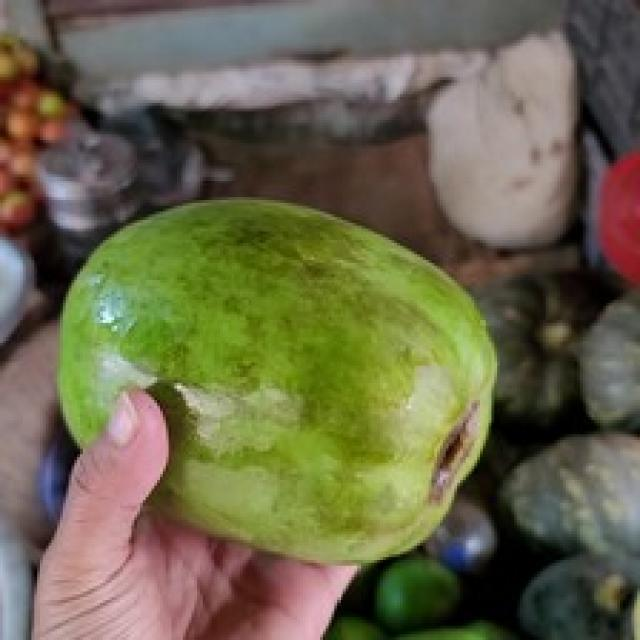Pepaya unrippen: (46, 178, 485, 574)
